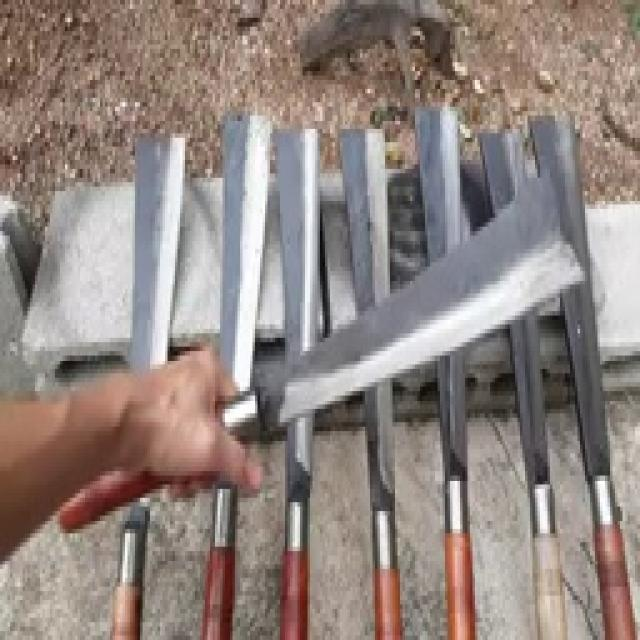eto: (51, 164, 588, 530)
